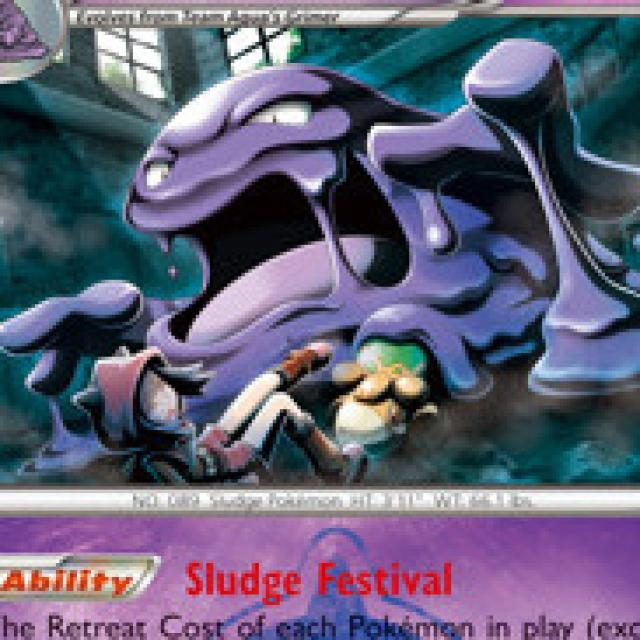Muk: (113, 56, 640, 390)
